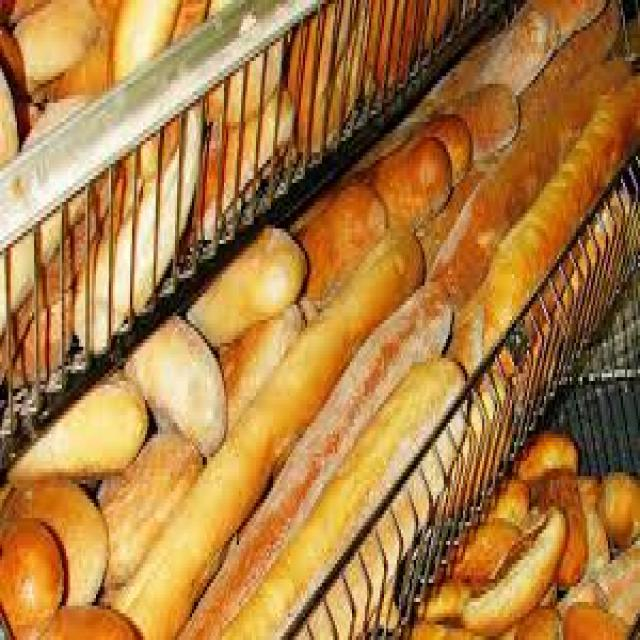organic waste: (109, 225, 422, 636), (171, 278, 452, 636), (213, 354, 468, 636), (444, 69, 638, 374), (422, 57, 638, 301), (422, 0, 623, 259), (70, 99, 205, 351), (0, 168, 107, 388), (0, 91, 94, 324), (96, 427, 205, 583), (7, 373, 148, 480), (456, 499, 566, 636), (122, 308, 226, 449), (0, 476, 107, 606), (184, 221, 305, 335), (192, 88, 290, 228), (292, 175, 384, 320), (207, 301, 303, 438), (286, 0, 356, 137), (448, 4, 546, 95), (361, 134, 448, 236), (552, 534, 638, 636), (204, 0, 277, 114), (0, 514, 64, 636), (527, 465, 584, 594), (15, 0, 98, 88), (436, 80, 518, 156), (107, 0, 179, 76), (0, 65, 19, 331), (13, 290, 70, 377), (454, 514, 523, 579), (403, 111, 467, 179), (15, 602, 141, 636), (363, 0, 414, 84), (512, 427, 578, 488), (591, 464, 638, 548), (574, 472, 608, 572), (416, 575, 471, 636), (561, 598, 629, 636), (484, 472, 527, 526), (529, 0, 606, 27), (510, 602, 565, 636), (420, 0, 444, 42)
